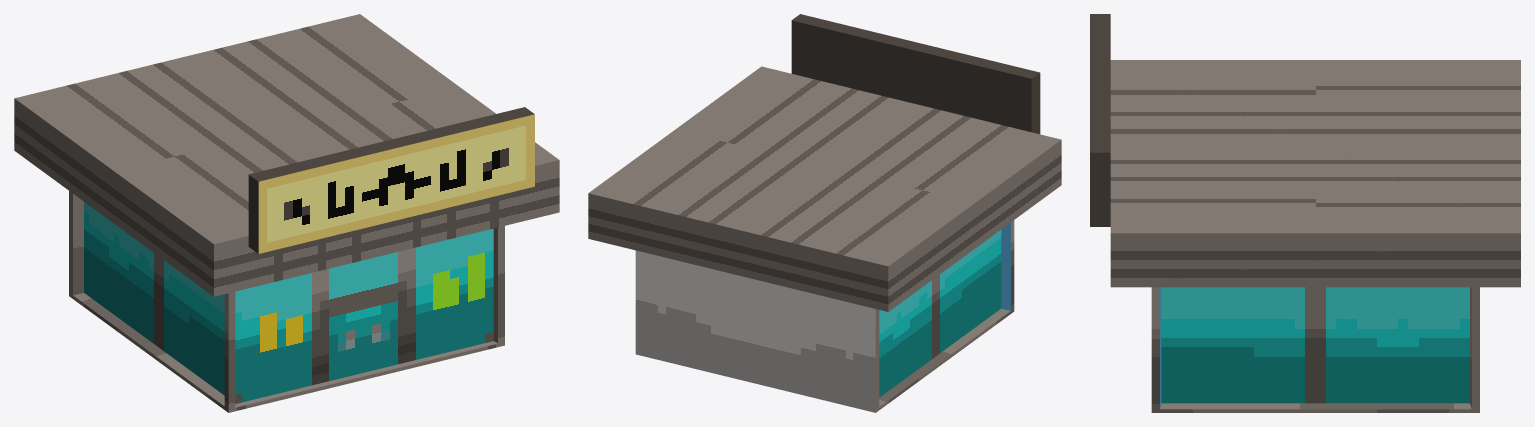
Rendered from Building1.1.gltf.
3 views of the same model, side by side, from view 1: azimuth 30°, elevation 25°; view 2: azimuth 150°, elevation 25°; view 3: azimuth 270°, elevation 25° (orthographic). The views are drawn at different scales.
Visible parts, largest first — view 1: mesh; view 2: mesh; view 3: mesh.
Part boxes in pixels (bbox=[...]): mesh: bbox=[14, 14, 559, 412]; mesh: bbox=[588, 14, 1061, 412]; mesh: bbox=[1090, 14, 1520, 412].
Size of the model in its own units: 2 by 1.4 by 2.1.
Materials: 3 (3 with a texture image).
